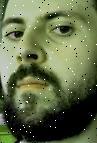without_mask: (1, 1, 97, 143)
